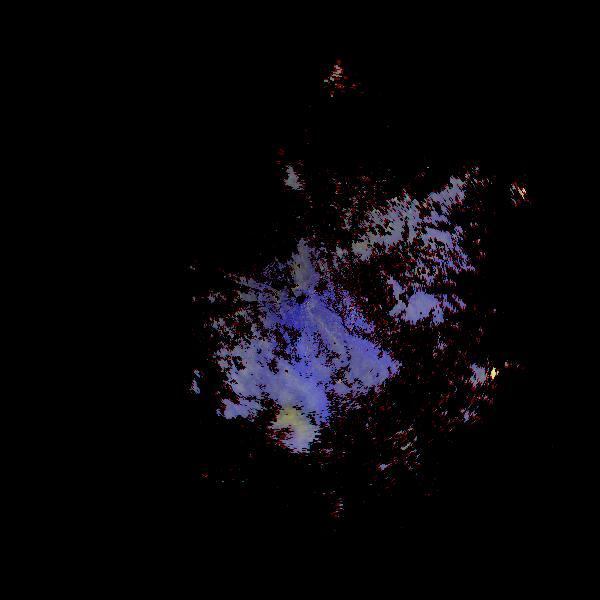roost: (298, 40, 352, 94), (264, 410, 312, 458), (307, 488, 346, 527)
